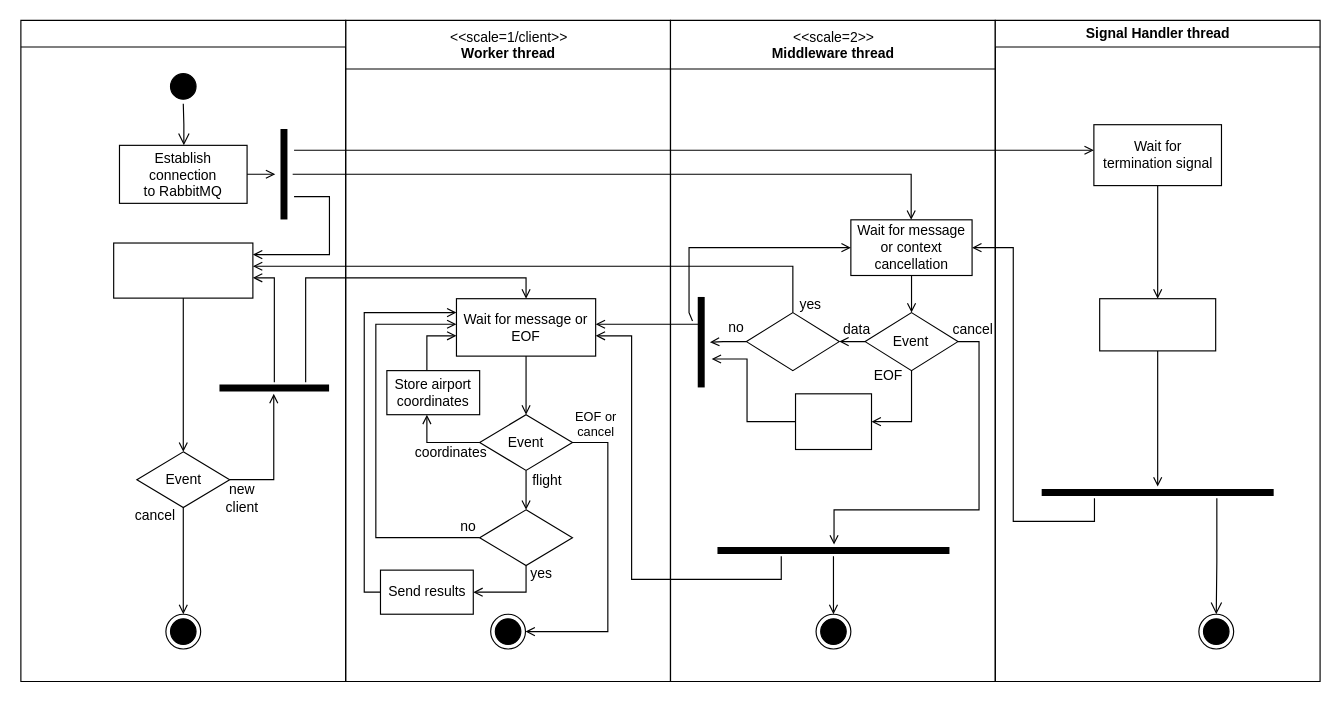
Some shapes in this 1340 by 702 pixel diagram are drawn without their labels. Here are the shapes that lost their labels. From the top down, the box of each, then its label:
(113, 242, 253, 298): Wait for clients
(745, 311, 839, 371): New client?
(1099, 298, 1216, 351): cancel context
(20, 19, 346, 682): Main thread
(794, 393, 872, 449): close message channel
(478, 509, 572, 566): Is long flight?
